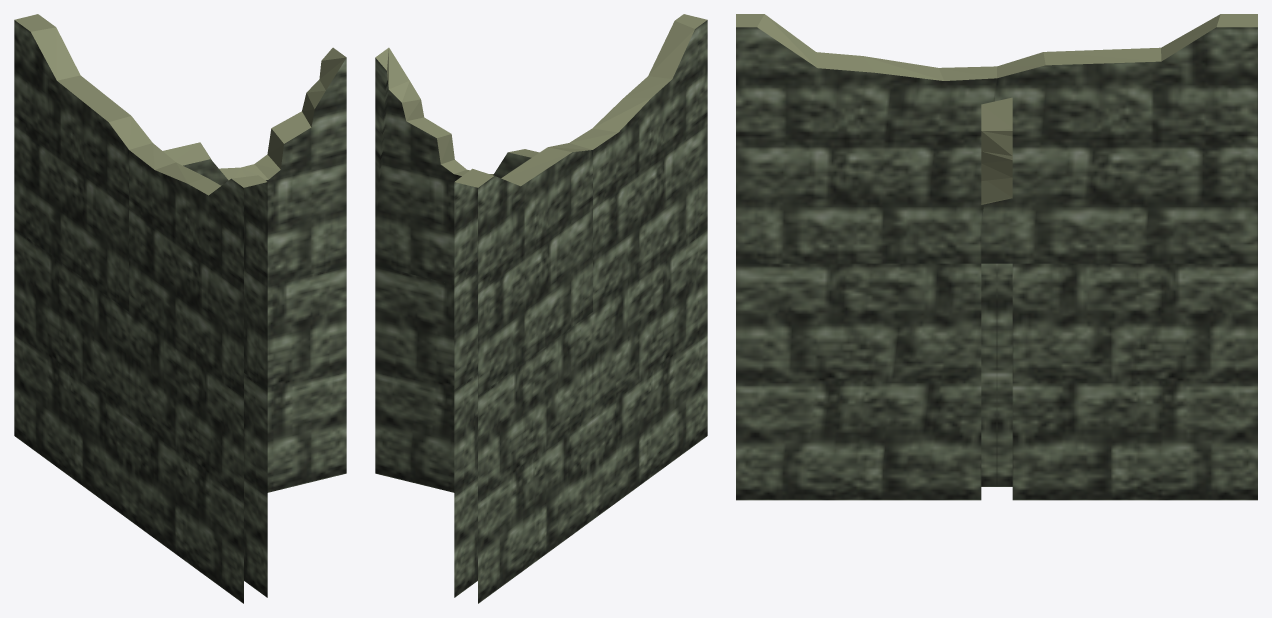
The model's file is ruins_grid_85_1.glb.
The picture shows the model from 3 angles, left to right: view 1: azimuth 30°, elevation 25°; view 2: azimuth 150°, elevation 25°; view 3: azimuth 270°, elevation 25°; orthographic projection. The views are drawn at different scales.
Parts seen in each view (by area): view 1: ruins_grid_85_1; view 2: ruins_grid_85_1; view 3: ruins_grid_85_1.
Boxes of the visible parts, x1,y1,x2,y2 form: ruins_grid_85_1: [14, 14, 346, 603]; ruins_grid_85_1: [375, 14, 707, 603]; ruins_grid_85_1: [736, 14, 1257, 500].
Size of the model in its own units: 2.12 by 4 by 4.
2 materials, 1 textured.
